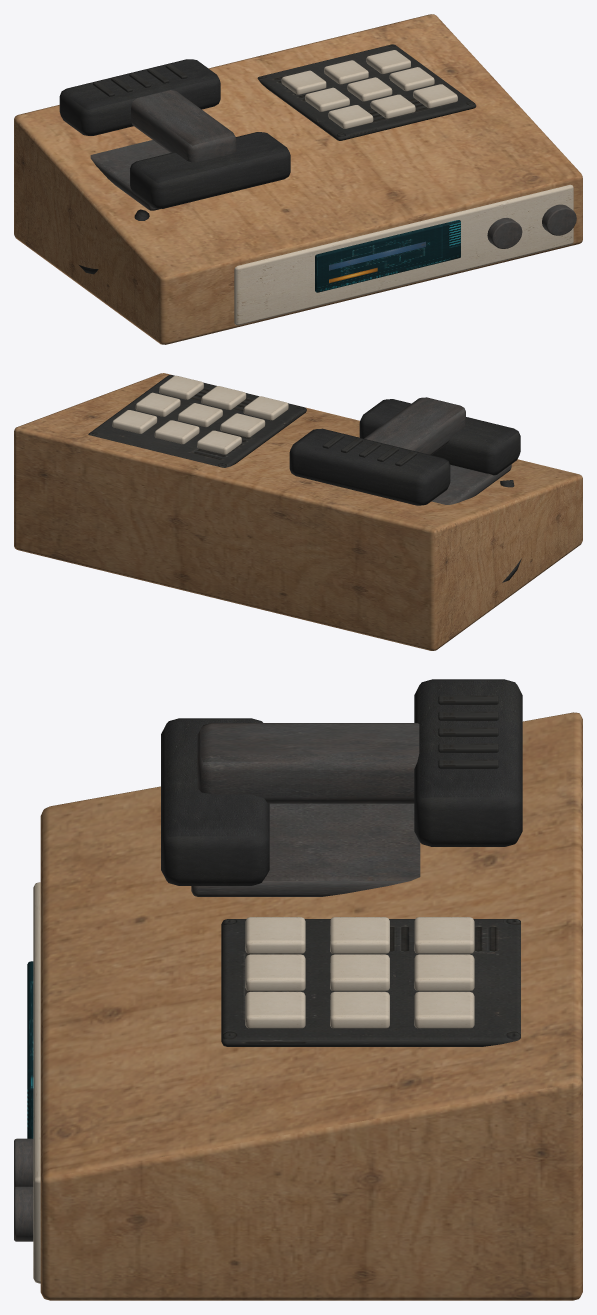
Rendered from SM_FacilityRooms_RadioConsole.fbx.
The picture shows the model from 3 angles, top to bottom: view 1: azimuth 30°, elevation 25°; view 2: azimuth 150°, elevation 25°; view 3: azimuth 270°, elevation 25°; orthographic projection. The views are drawn at different scales.
Visible parts, largest first — view 1: SM_FacilityRooms_RadioConsole; view 2: SM_FacilityRooms_RadioConsole; view 3: SM_FacilityRooms_RadioConsole.
Part boxes in pixels (box(x1,y1,x2,y2)): SM_FacilityRooms_RadioConsole: box(14, 14, 582, 344); SM_FacilityRooms_RadioConsole: box(14, 373, 582, 650); SM_FacilityRooms_RadioConsole: box(14, 679, 582, 1300).
Size of what is drawn, in the model's own units: 70 by 45 by 25.
